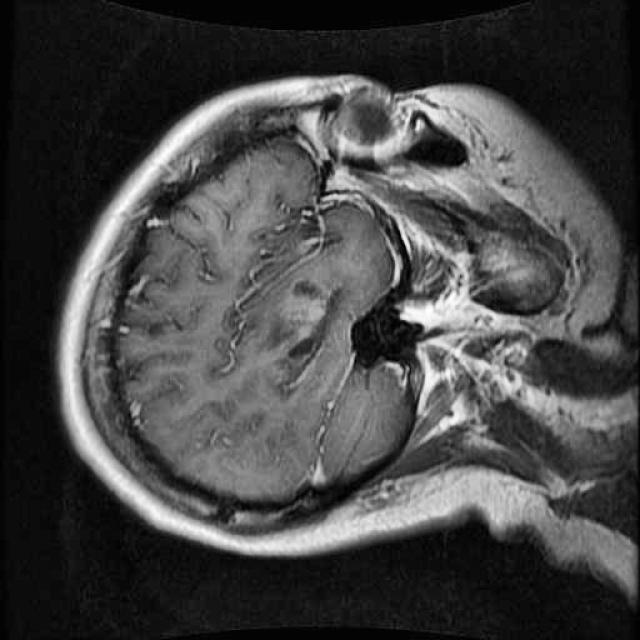Non-Tumor: (268, 260, 371, 398)
